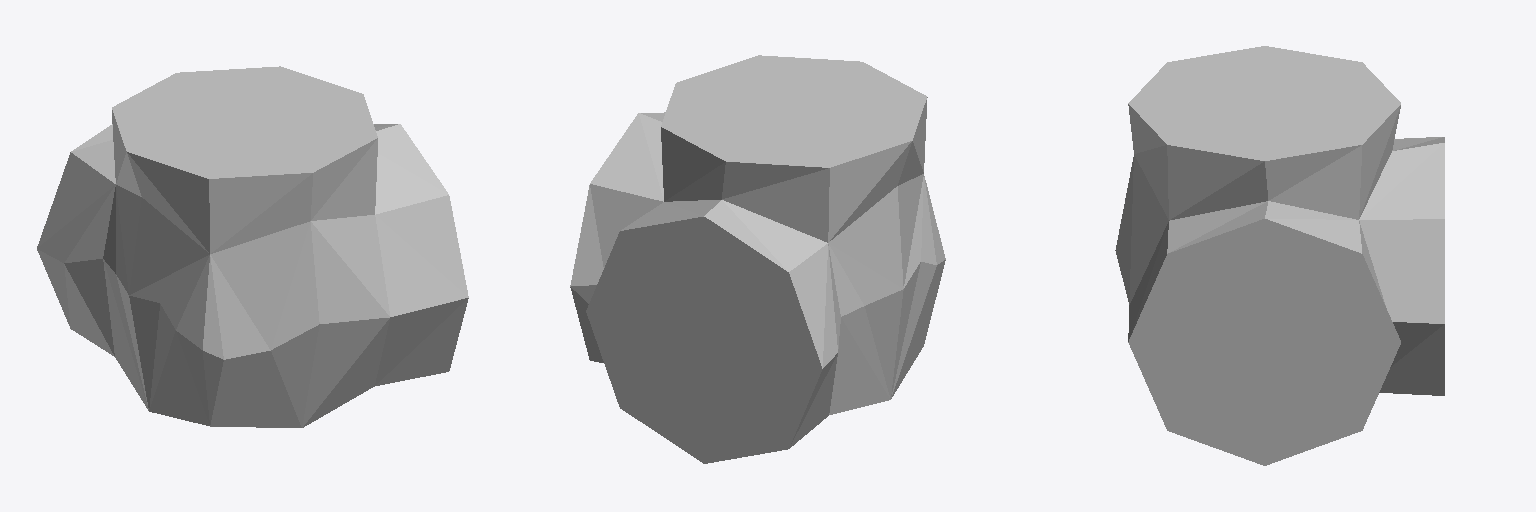
Rendered from 2 branches L.obj.
The picture shows the model from 3 angles: view 1: azimuth 30°, elevation 25°; view 2: azimuth 150°, elevation 25°; view 3: azimuth 270°, elevation 25°; orthographic projection.
Visible parts, largest first — view 1: 2_branches_(L)_Cube.025; view 2: 2_branches_(L)_Cube.025; view 3: 2_branches_(L)_Cube.025.
Boxes of the visible parts, box(x1,y1,x2,y2) form: 2_branches_(L)_Cube.025: box(37, 66, 468, 427); 2_branches_(L)_Cube.025: box(570, 55, 945, 463); 2_branches_(L)_Cube.025: box(1115, 46, 1444, 465).
Size of the model in its own units: 1.76 by 1.76 by 1.83.